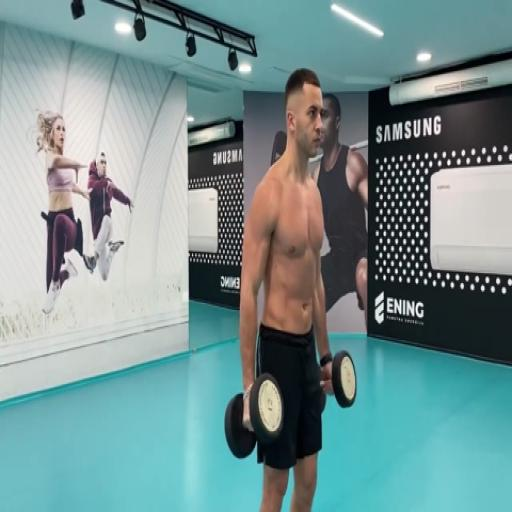exercise: (235, 67, 337, 510), (32, 108, 93, 319), (80, 150, 135, 284)
